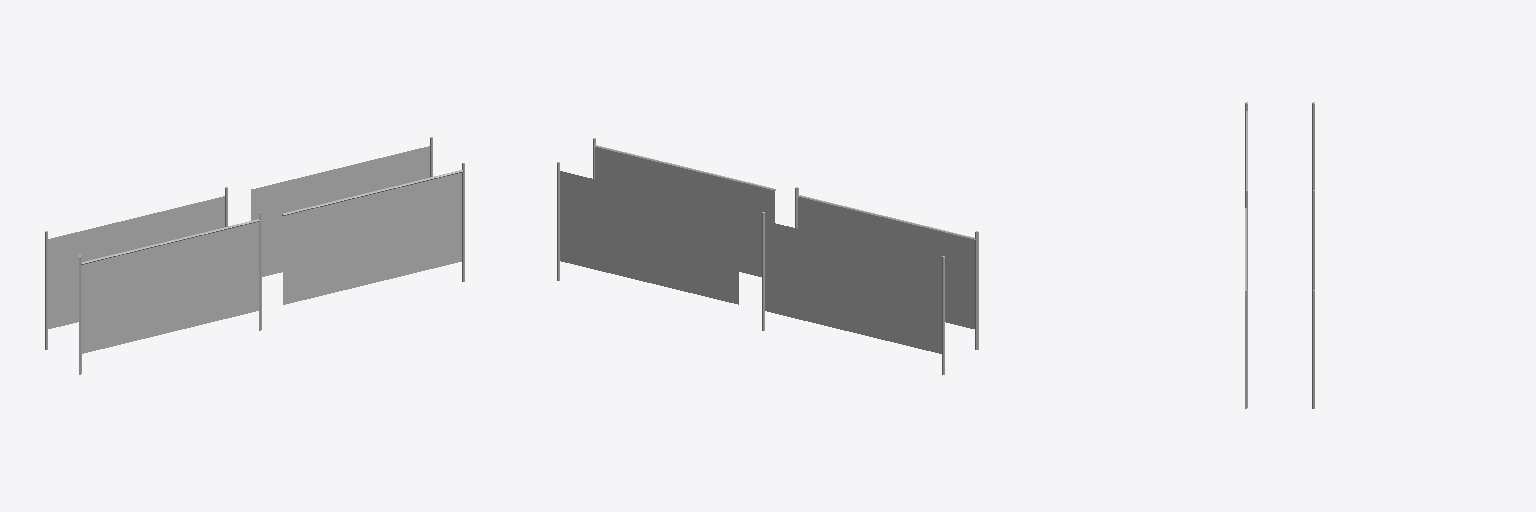
File: Sketchfab_2023_02_26_14_04_43.obj
3 views of the same model, side by side, from view 1: azimuth 30°, elevation 25°; view 2: azimuth 150°, elevation 25°; view 3: azimuth 270°, elevation 25° (orthographic).
Visible parts, largest first — view 1: TexturesCom_MetalVarious0026_1_seamless_S.002, Cylinder.004, Cylinder, Cylinder.001; view 2: Cylinder, Cylinder.001, TexturesCom_MetalVarious0026_1_seamless_S.002, Cylinder.004; view 3: Cylinder.
Boxes of the visible parts, x1,y1,x2,y2 form: TexturesCom_MetalVarious0026_1_seamless_S.002: [79, 212, 261, 374]; Cylinder.004: [282, 163, 464, 304]; Cylinder: [45, 187, 227, 349]; Cylinder.001: [251, 137, 432, 276]; Cylinder: [762, 212, 944, 374]; Cylinder.001: [557, 162, 738, 304]; TexturesCom_MetalVarious0026_1_seamless_S.002: [795, 187, 978, 349]; Cylinder.004: [593, 138, 775, 276]; Cylinder: [1312, 102, 1314, 290].
Bounding box in the file's own units: 5.73 × 1.67 × 0.9078.